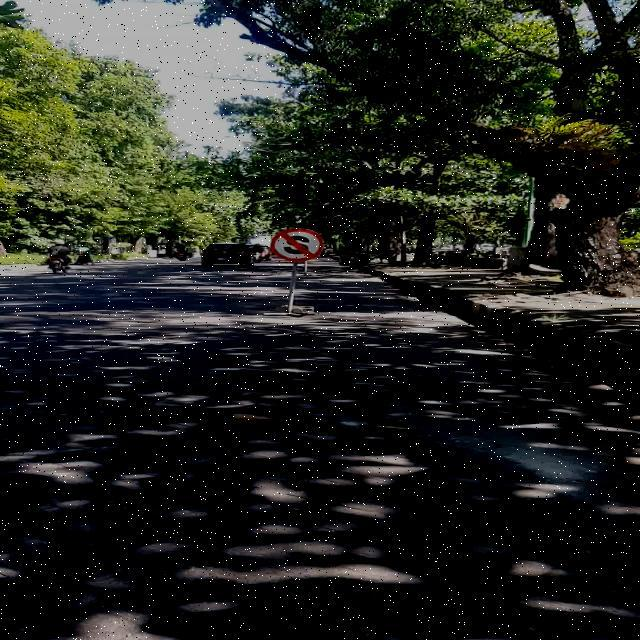Dilarang Berhenti: (270, 228, 322, 262)
